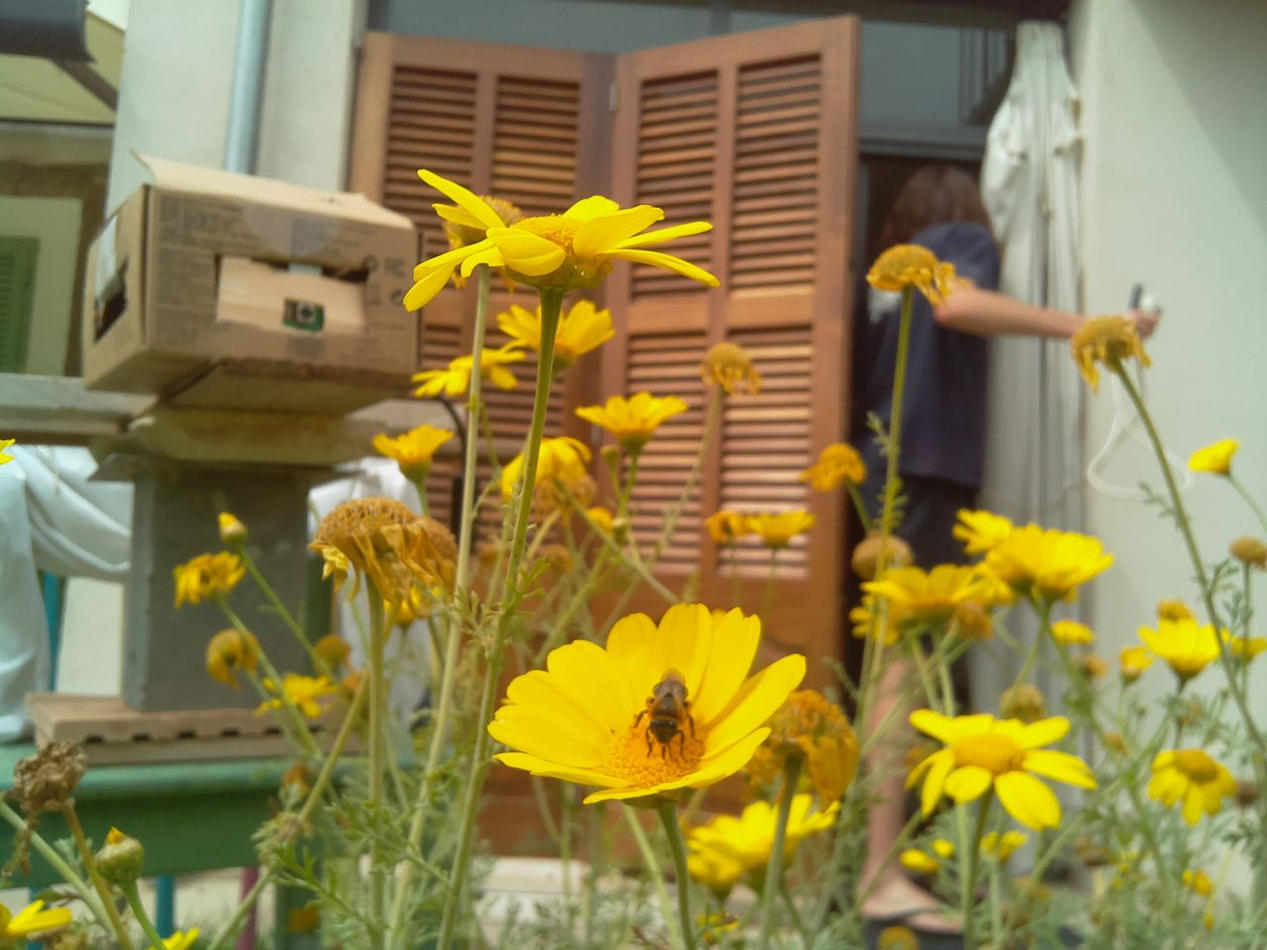Eucera: (607, 664, 727, 769)
